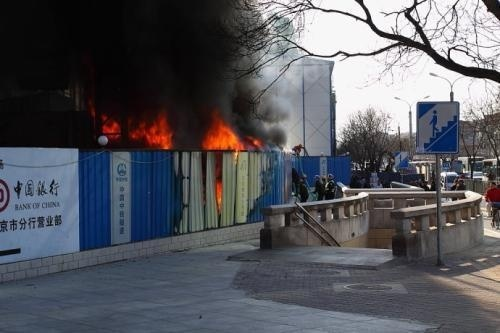fire: (98, 108, 174, 147), (201, 116, 259, 151), (214, 179, 225, 209)
